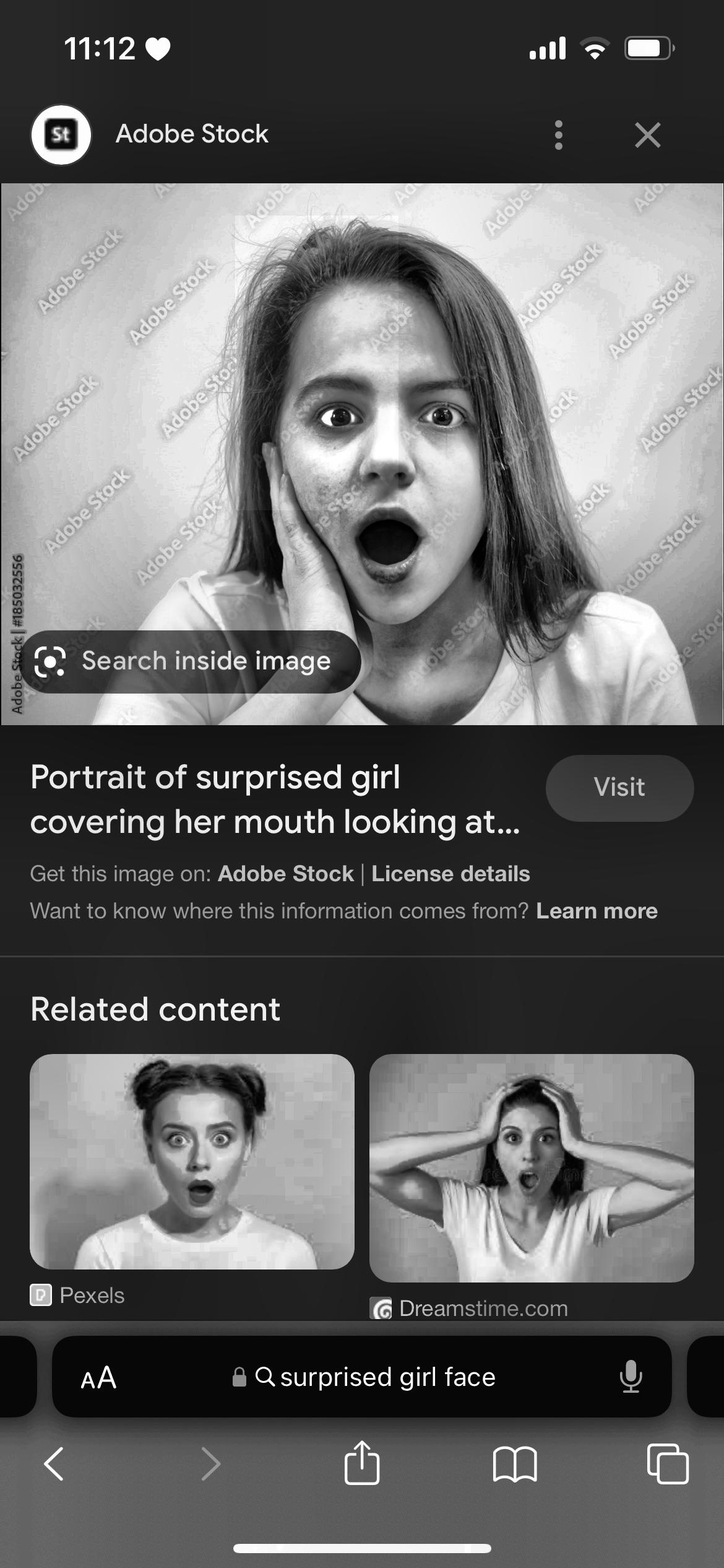surprised: (291, 266, 493, 631)
